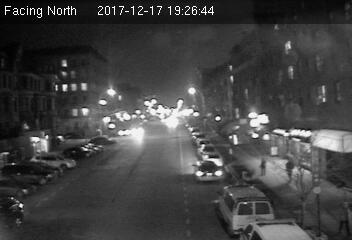car: (191, 160, 225, 183)
police: (216, 183, 277, 234)
